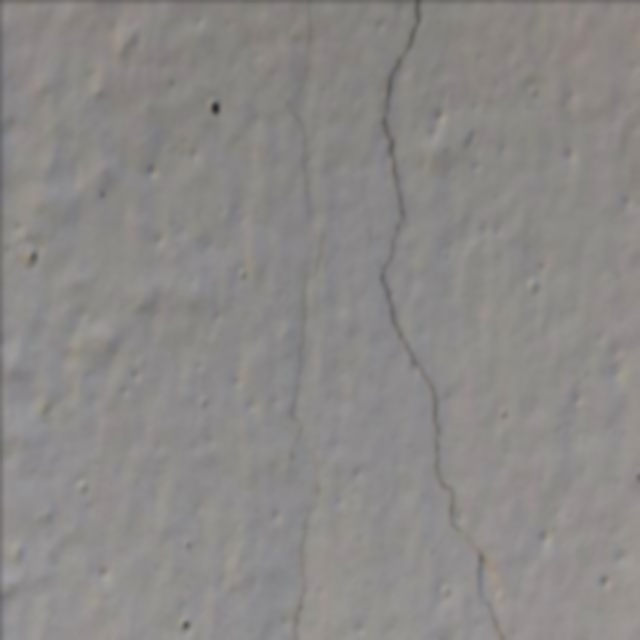SurfaceCrack: (346, 0, 547, 640)
